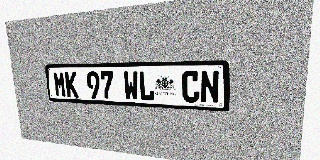7: (99, 71, 115, 99)
9: (86, 71, 101, 99)
C: (182, 70, 200, 103)
K: (64, 71, 79, 98)
L: (138, 71, 155, 101)
M: (53, 72, 67, 97)
N: (200, 70, 220, 104)
W: (123, 71, 139, 100)
